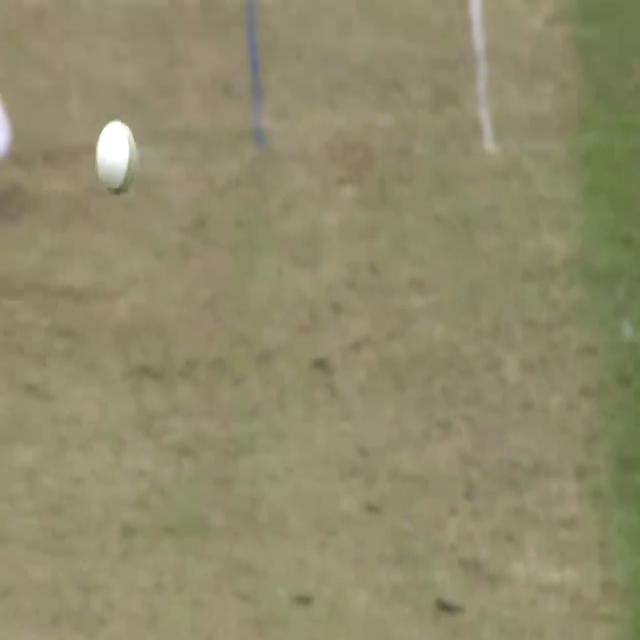ball: (92, 112, 146, 198)
